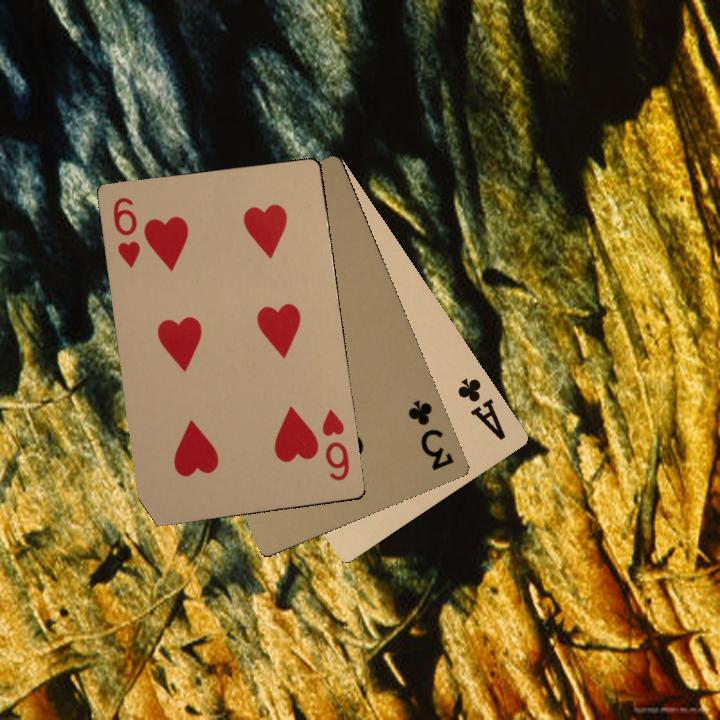3c: (403, 396, 456, 474)
6h: (108, 193, 143, 270), (318, 407, 352, 484)
Ac: (453, 374, 508, 443)
